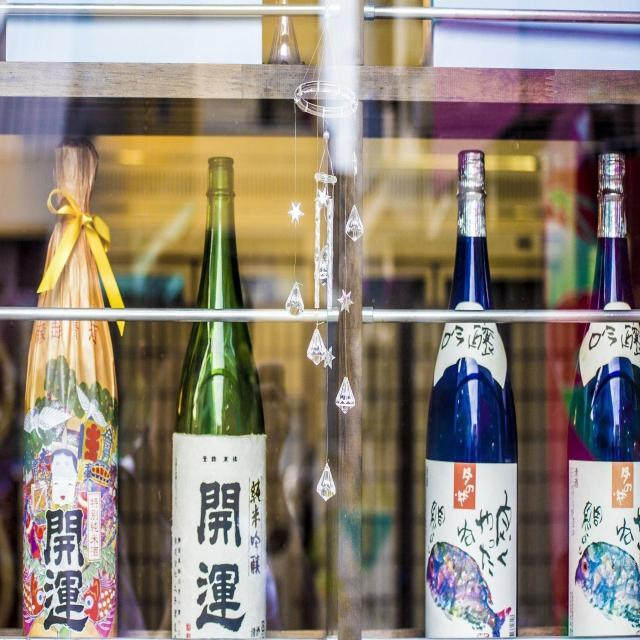bottle-glass: (19, 136, 122, 640), (421, 146, 520, 640), (169, 152, 269, 640), (565, 148, 640, 640)
